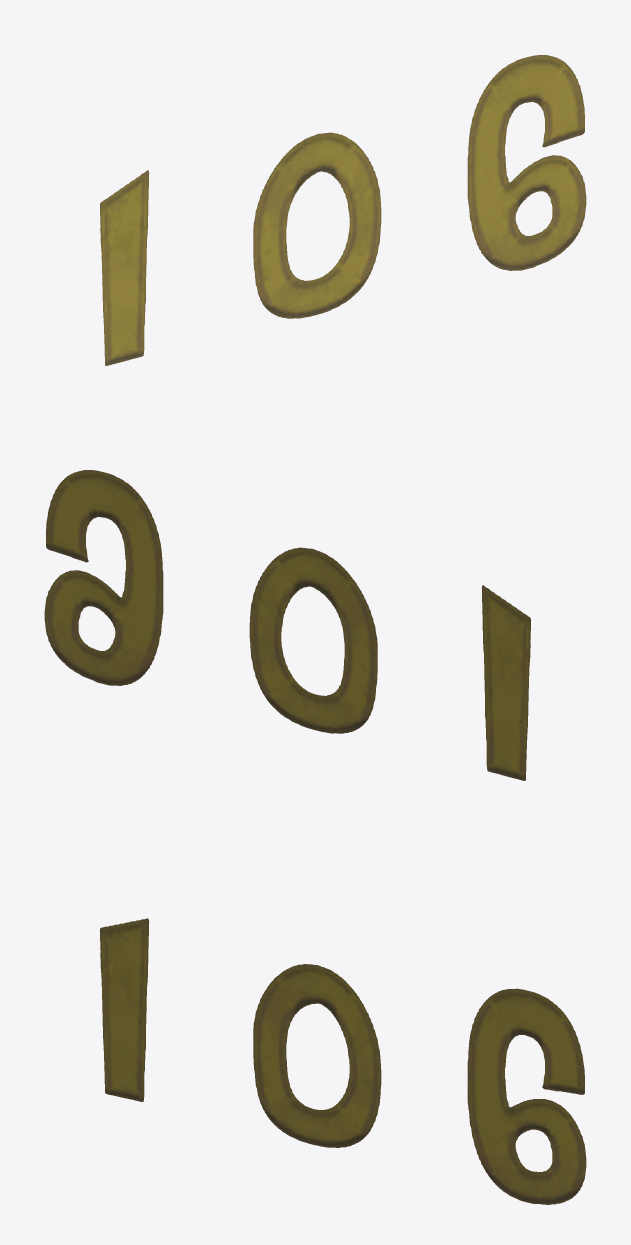
The model's file is roomSign106.FBX.
3 renders of one model, top to bottom at view 1: azimuth 30°, elevation 25°; view 2: azimuth 150°, elevation 25°; view 3: azimuth 330°, elevation 25°, orthographic.
Visible parts, largest first — view 1: SM_RoomSign106; view 2: SM_RoomSign106; view 3: SM_RoomSign106.
Boxes of the visible parts, x1,y1,x2,y2 form: SM_RoomSign106: (100,55,586,365); SM_RoomSign106: (44,470,530,780); SM_RoomSign106: (100,918,586,1204).
Bounding box in the file's own units: 19.88 × 7.55 × 2.18e-23.
1 material, 1 textured.
